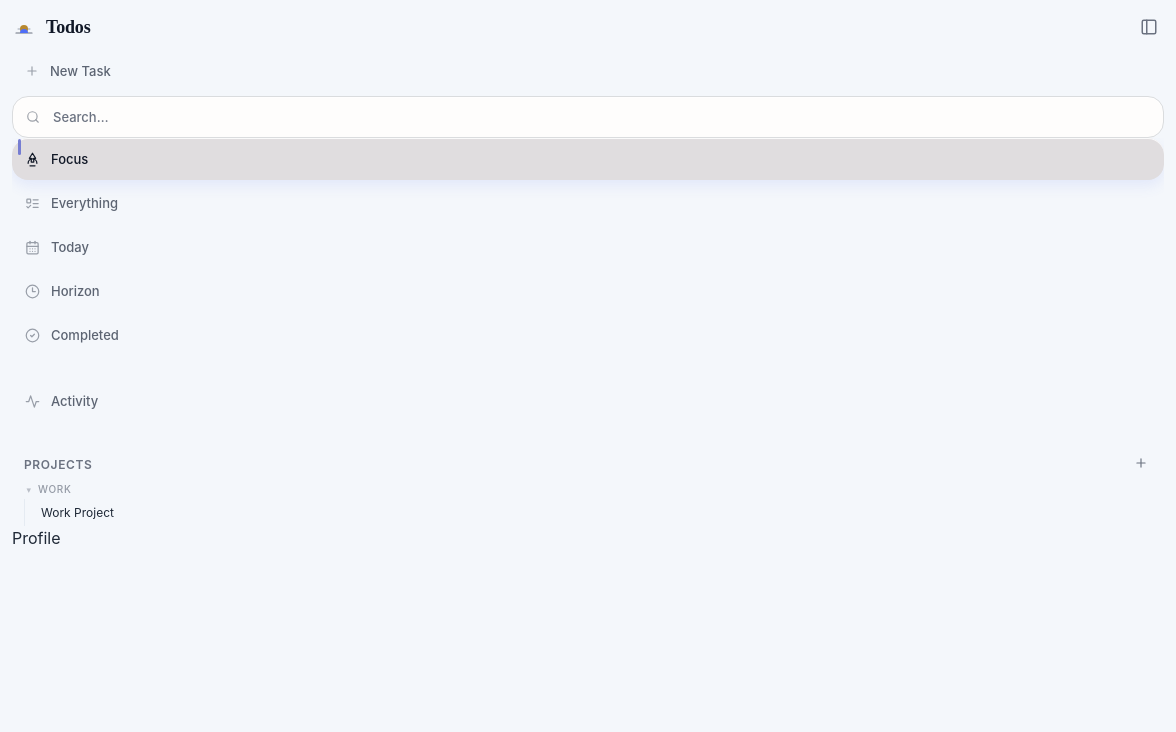
Sidebar › project grouping › collapses/expands areas on click
This screenshot has width=1176, height=732.
Expected: the text "Work Project" is shown, [41,505,114,520]
Note: Click to collapse
Click the button "▾ Work": click(55, 489) [12,479,1164,499]
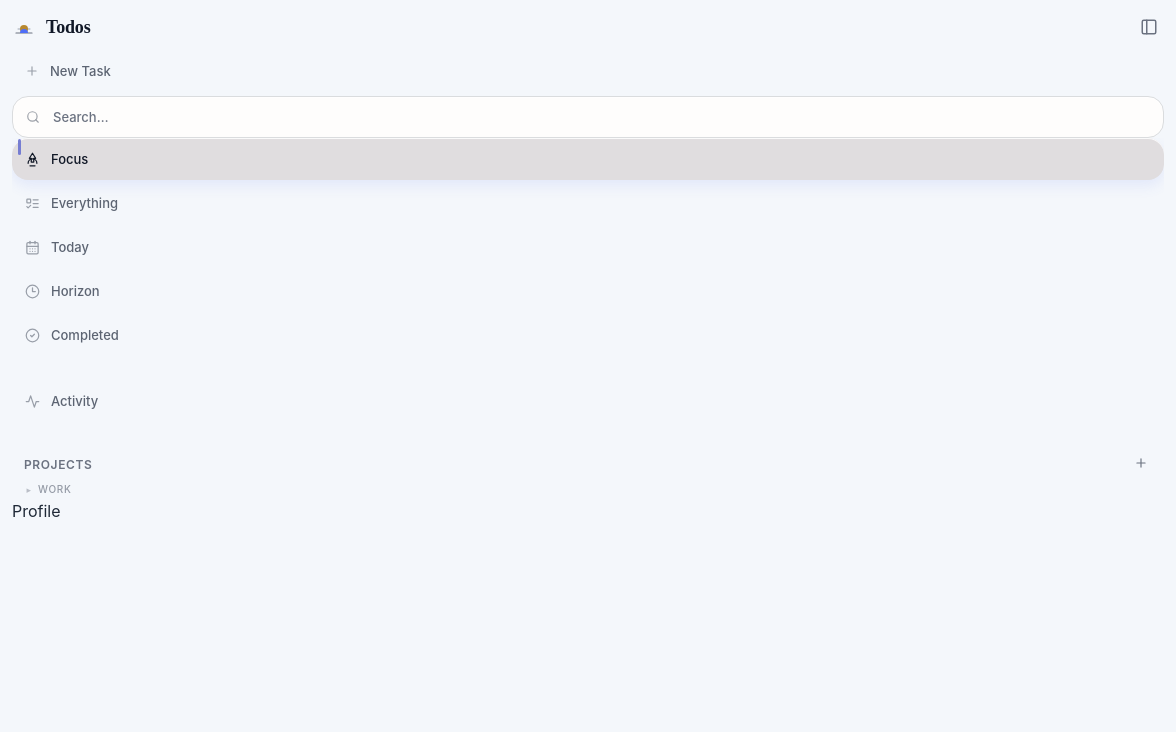
Now the button "Work Project" is gone
